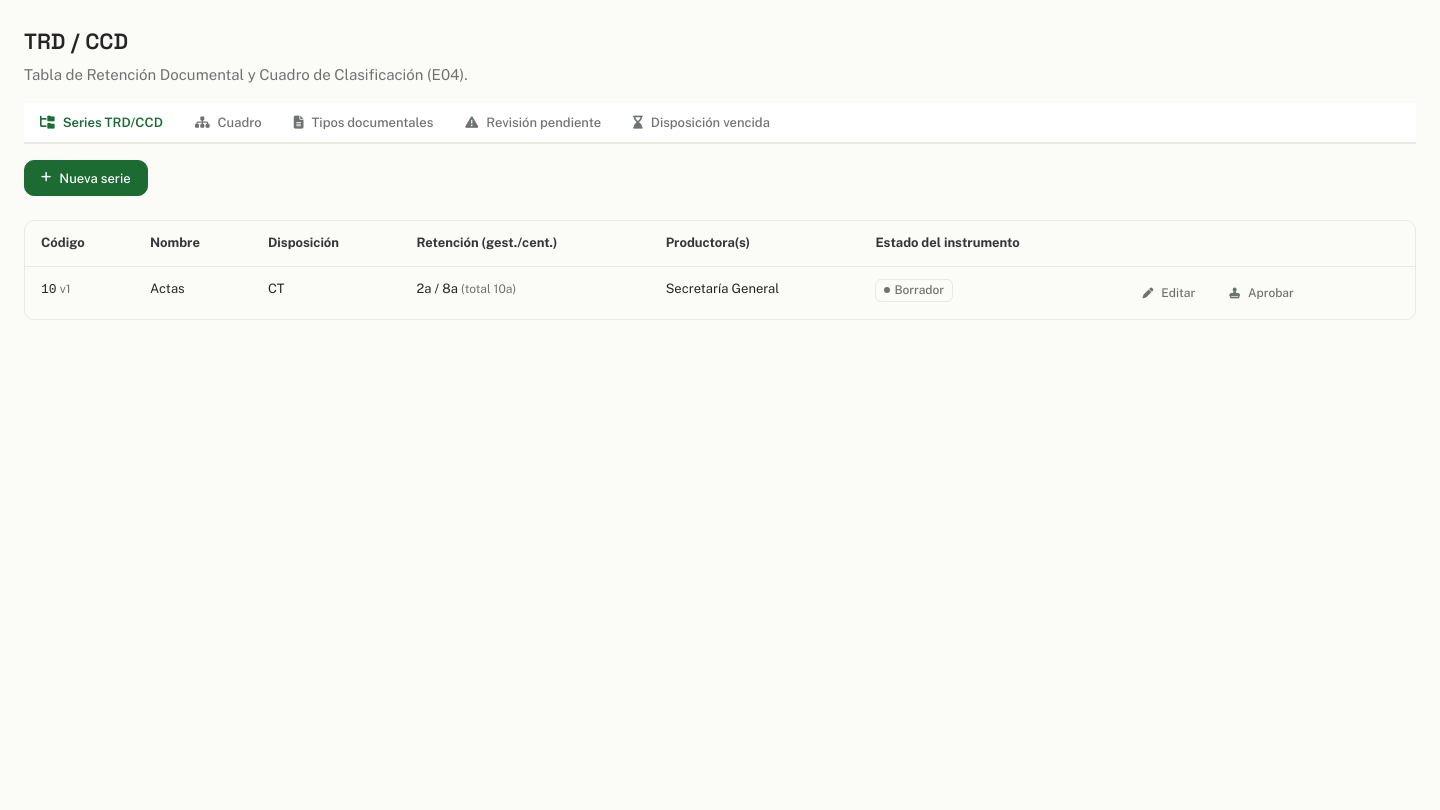
Scenario: /admin/trd — tipo documental publicable (C-4) › nivel 3: casilla Publicable habilitada y «Activo» habilitado
The width and height of the screenshot is (1440, 810).
Click the tab "Tipos documentales" at (364, 124), box [278,103,449,144]
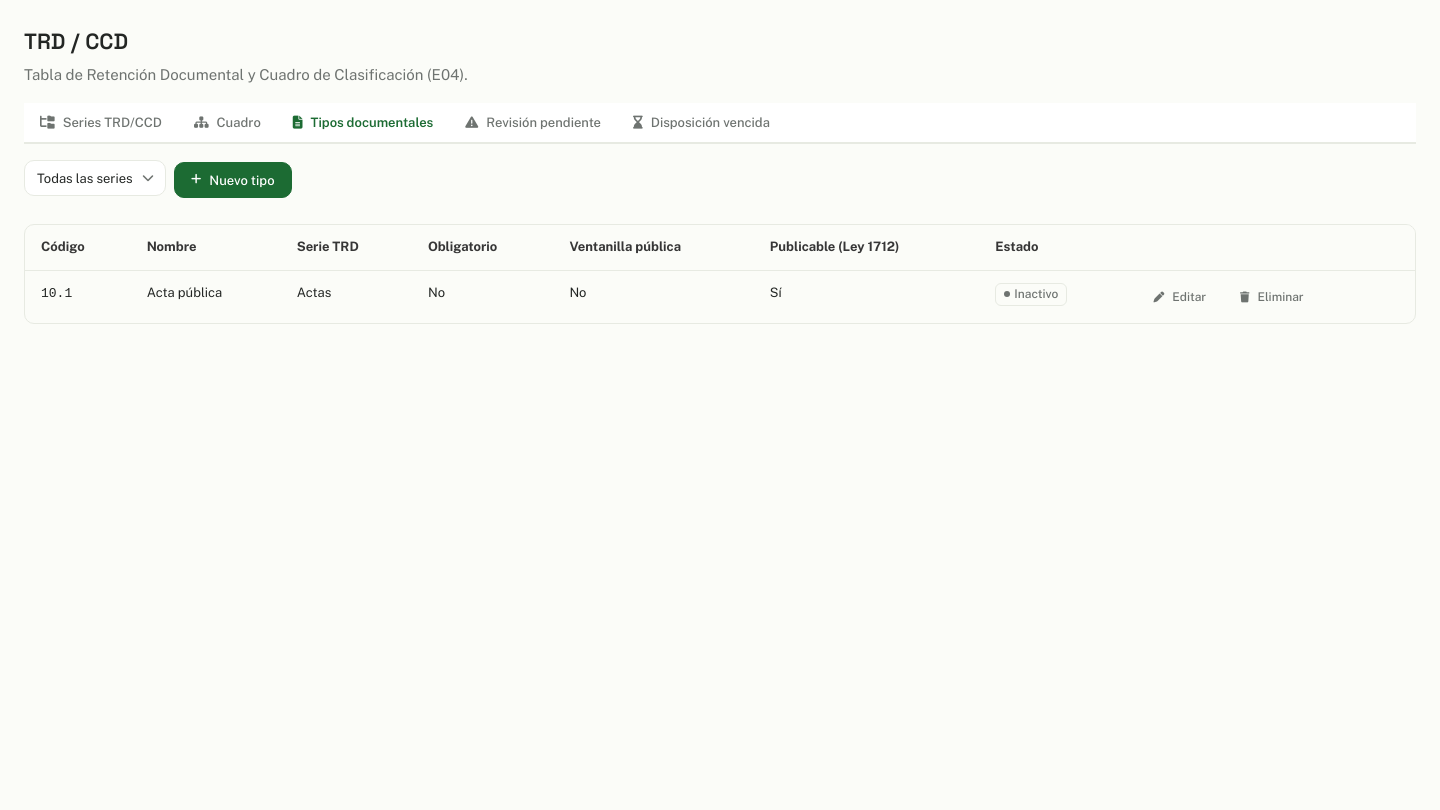
Click the 2nd button named "Editar" at (1180, 297), box [1140,283,1219,311]
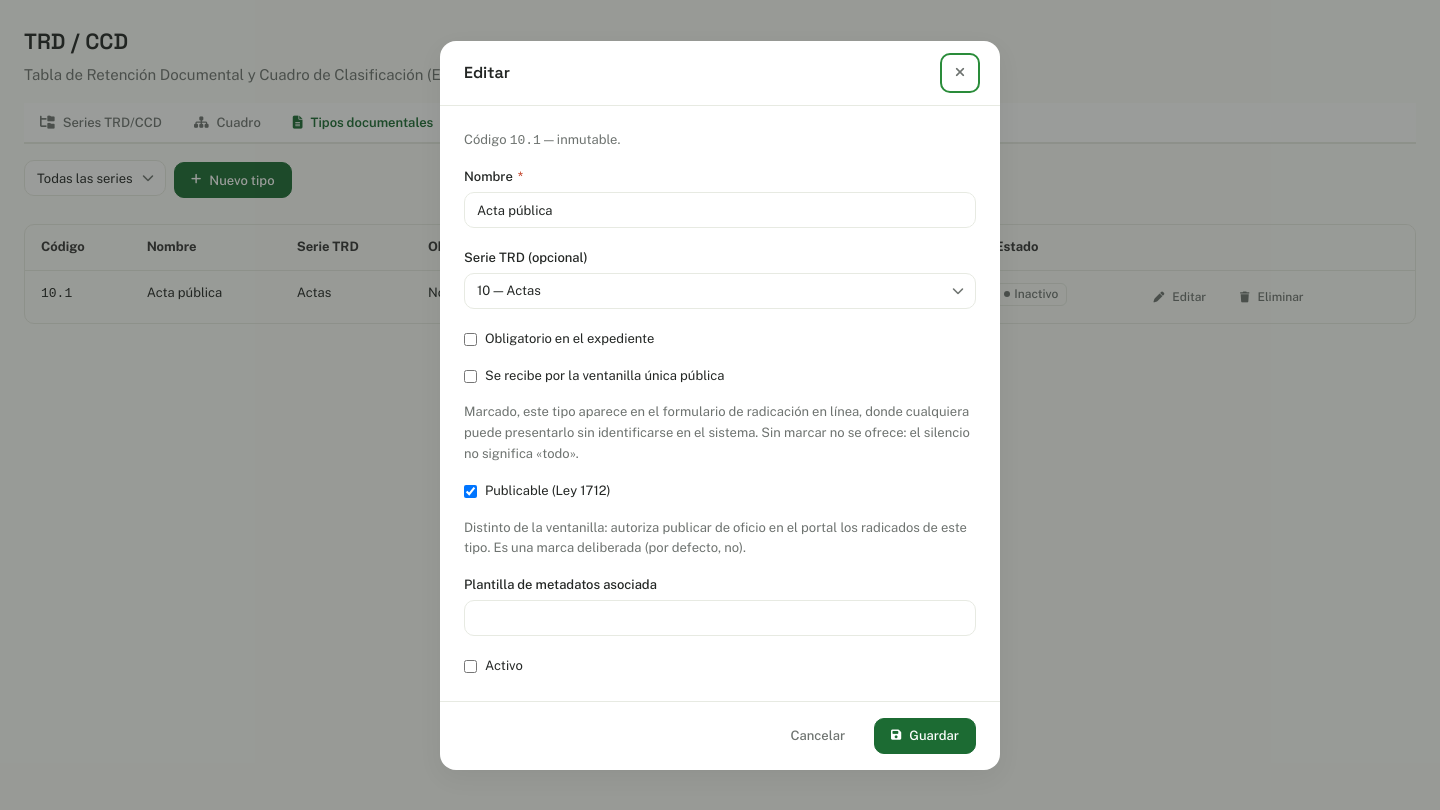
Check: the checkbox labelled "Publicable (Ley 1712)" is enabled, box [464,485,477,498]
Check: the checkbox labelled "Activo" is enabled, box [464,660,477,673]
